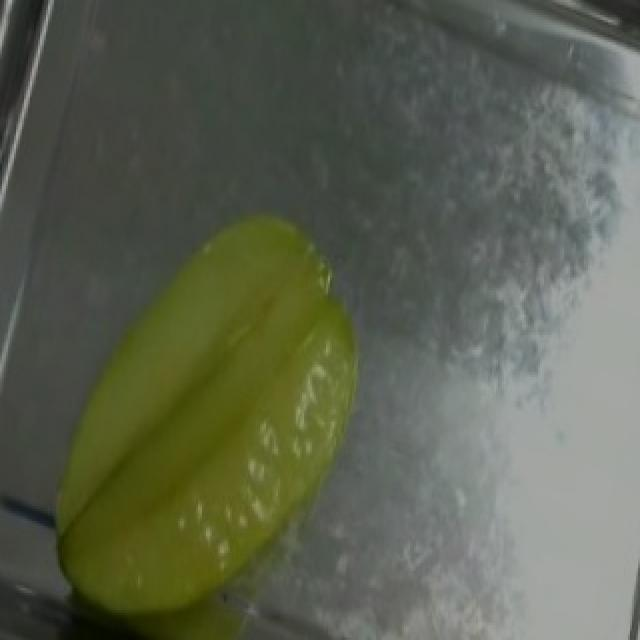fruit: (32, 164, 414, 630)
